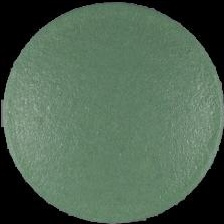42549-529: (0, 0, 224, 224)
